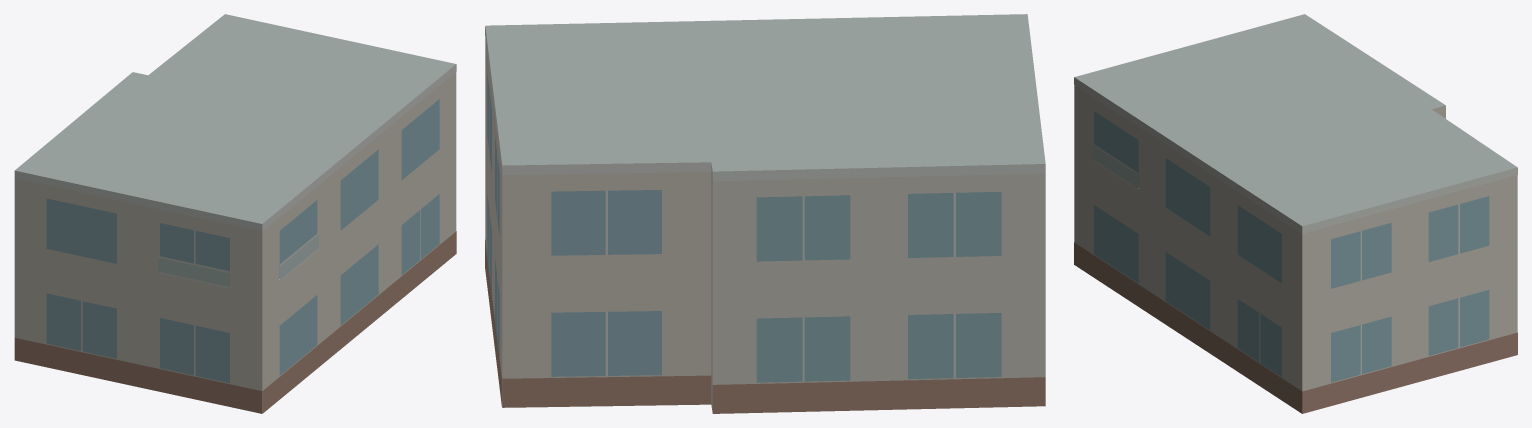
File: survey-upis-32619355.glb
3 renders of one model, left to right at view 1: azimuth 30°, elevation 25°; view 2: azimuth 150°, elevation 25°; view 3: azimuth 270°, elevation 25°, orthographic. The views are drawn at different scales.
Visible parts, largest first — view 1: survey-upis-32619355.tmp; view 2: survey-upis-32619355.tmp; view 3: survey-upis-32619355.tmp.
Boxes of the visible parts, bbox=[...] form: survey-upis-32619355.tmp: bbox=[14, 14, 456, 413]; survey-upis-32619355.tmp: bbox=[485, 14, 1045, 413]; survey-upis-32619355.tmp: bbox=[1074, 14, 1517, 413].
Size of the model in its own units: 14.82 by 6.1 by 13.09.
